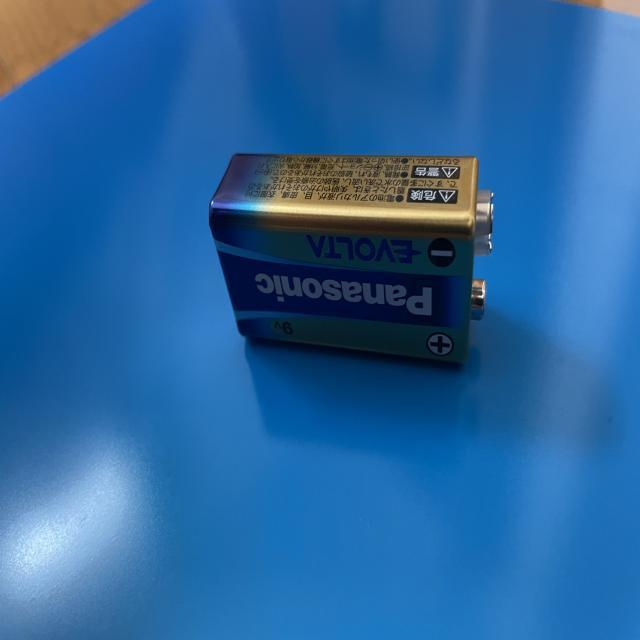9V: (206, 151, 494, 371)
